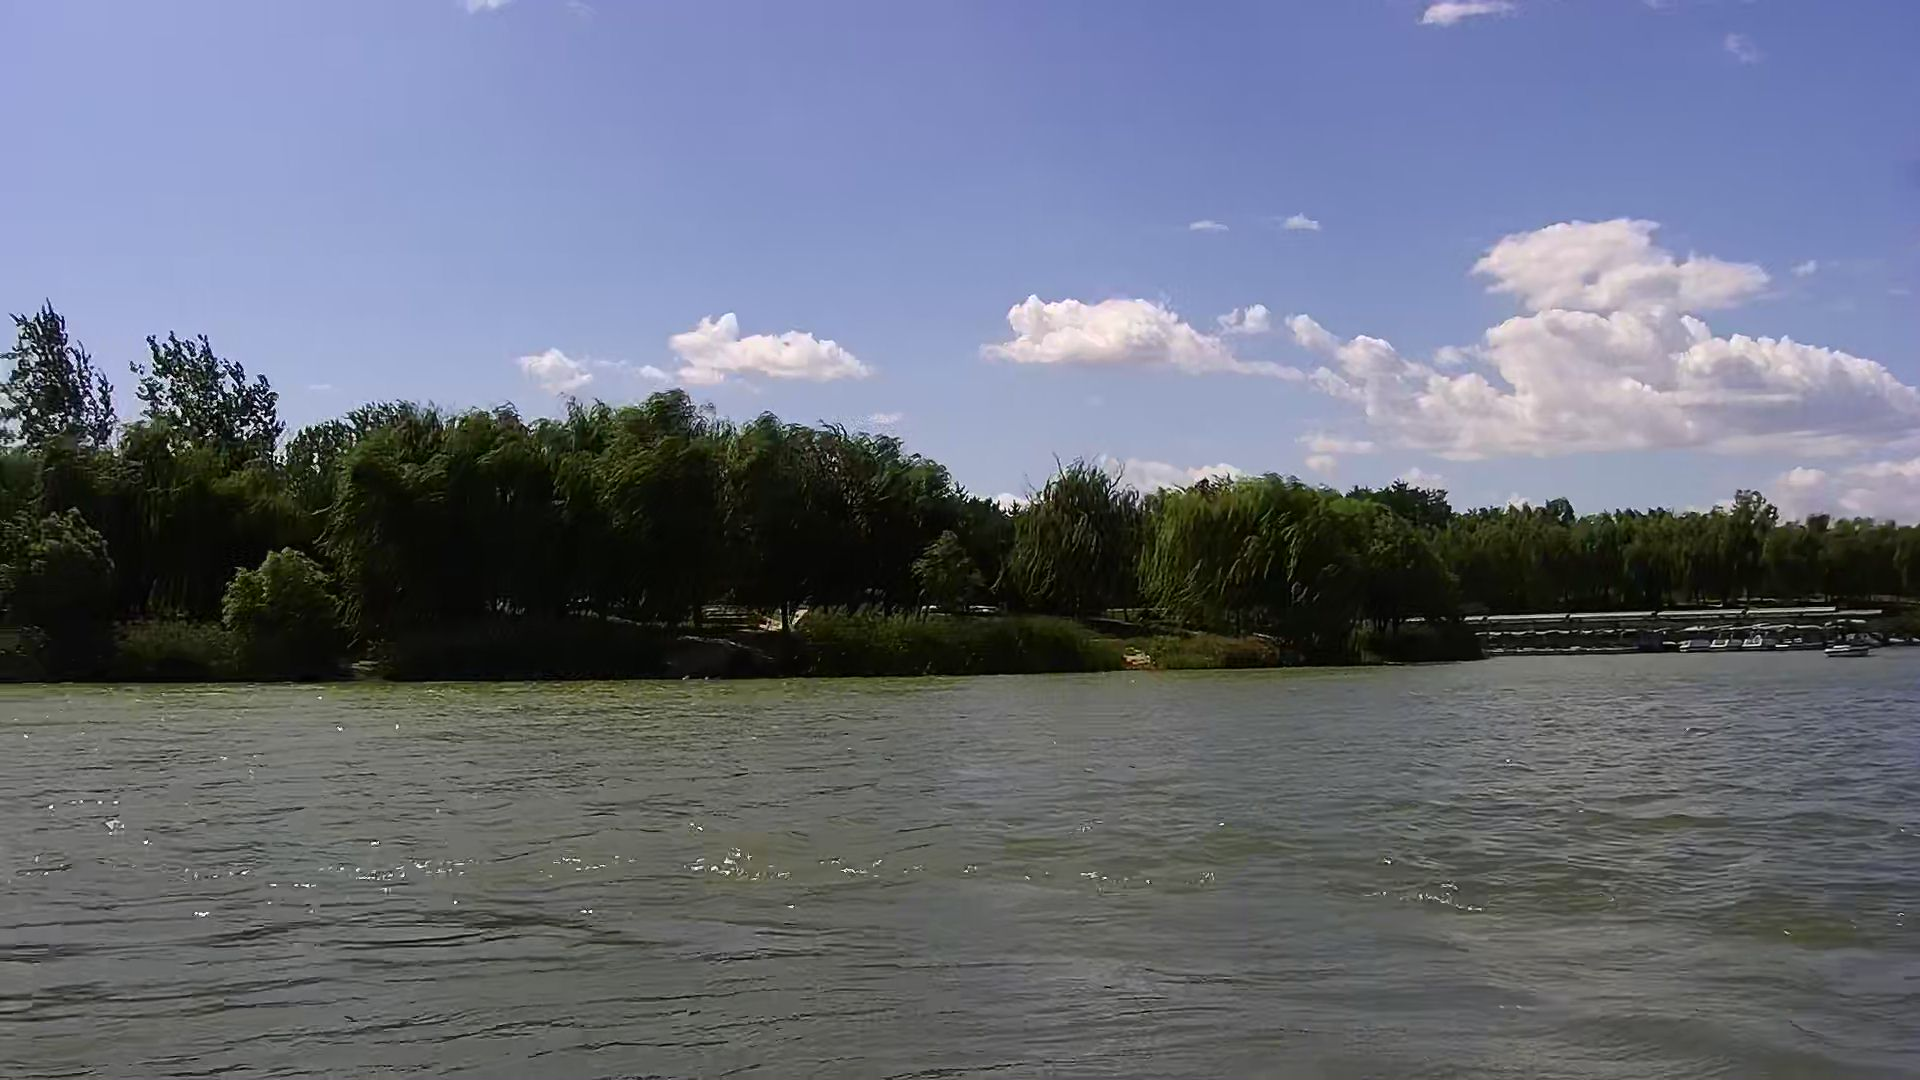boat: (1738, 622, 1776, 655), (1673, 624, 1710, 655), (1712, 622, 1742, 651), (1821, 645, 1869, 659)
harbor: (1482, 609, 1878, 650)
